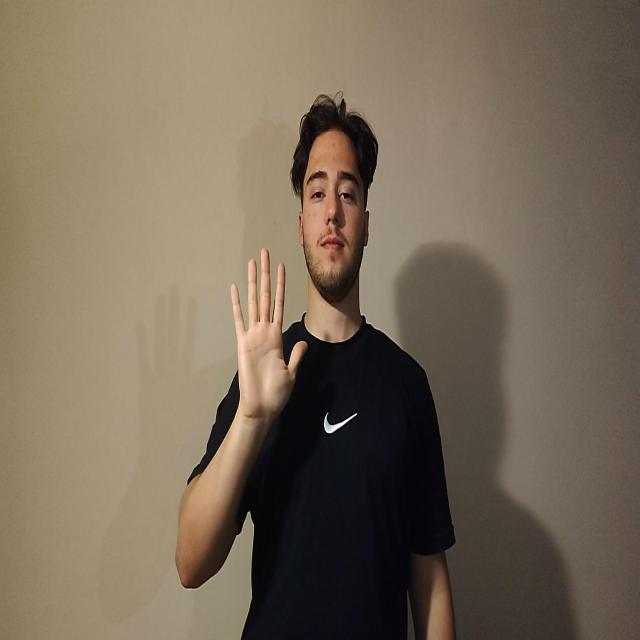hello: (230, 247, 308, 423)
